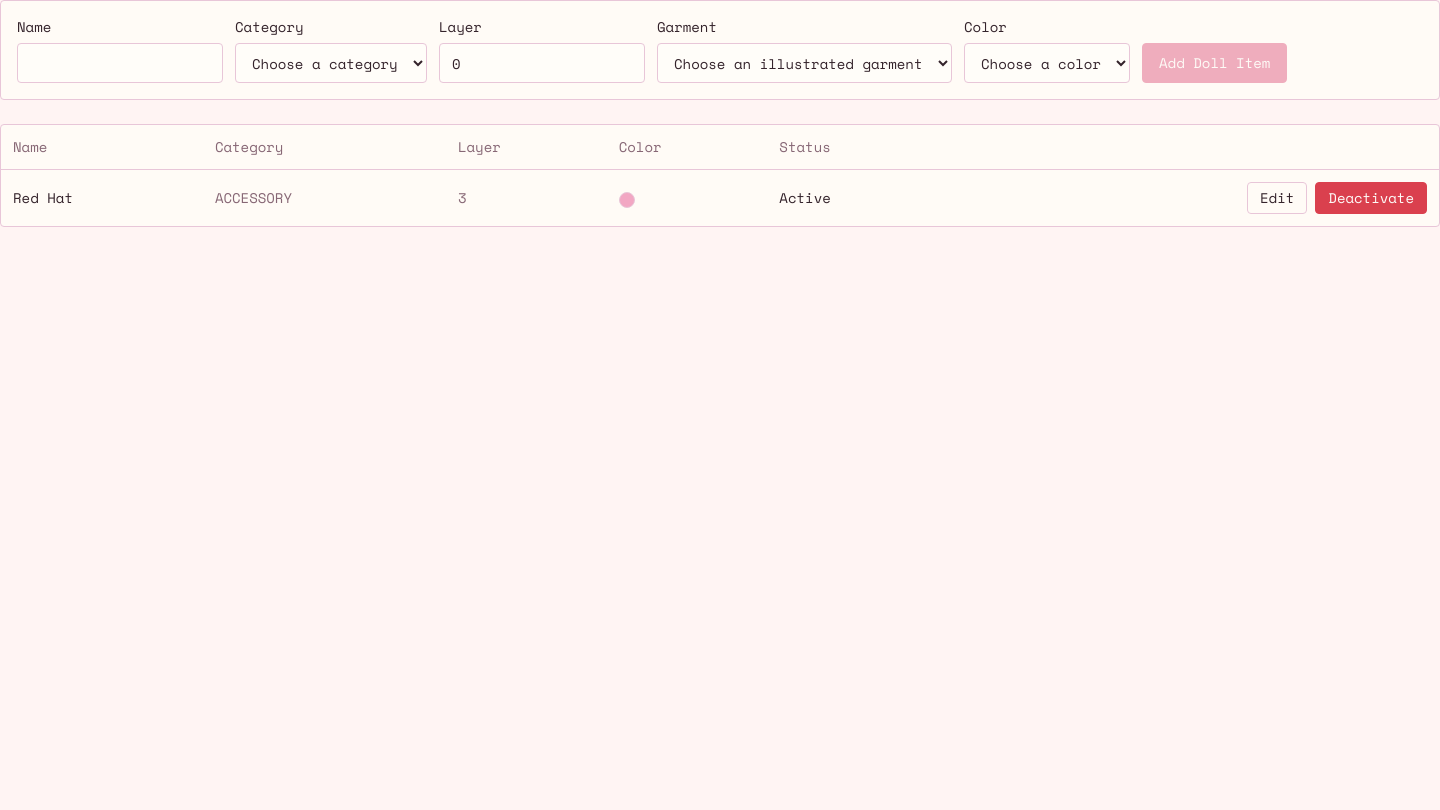
DollItemManager › deactivates a doll item
expect the text "Red Hat" is shown: met, box x1=1 y1=170 x2=203 y2=226
Click the button "Deactivate": [1371, 198] box x1=1315 y1=182 x2=1427 y2=214
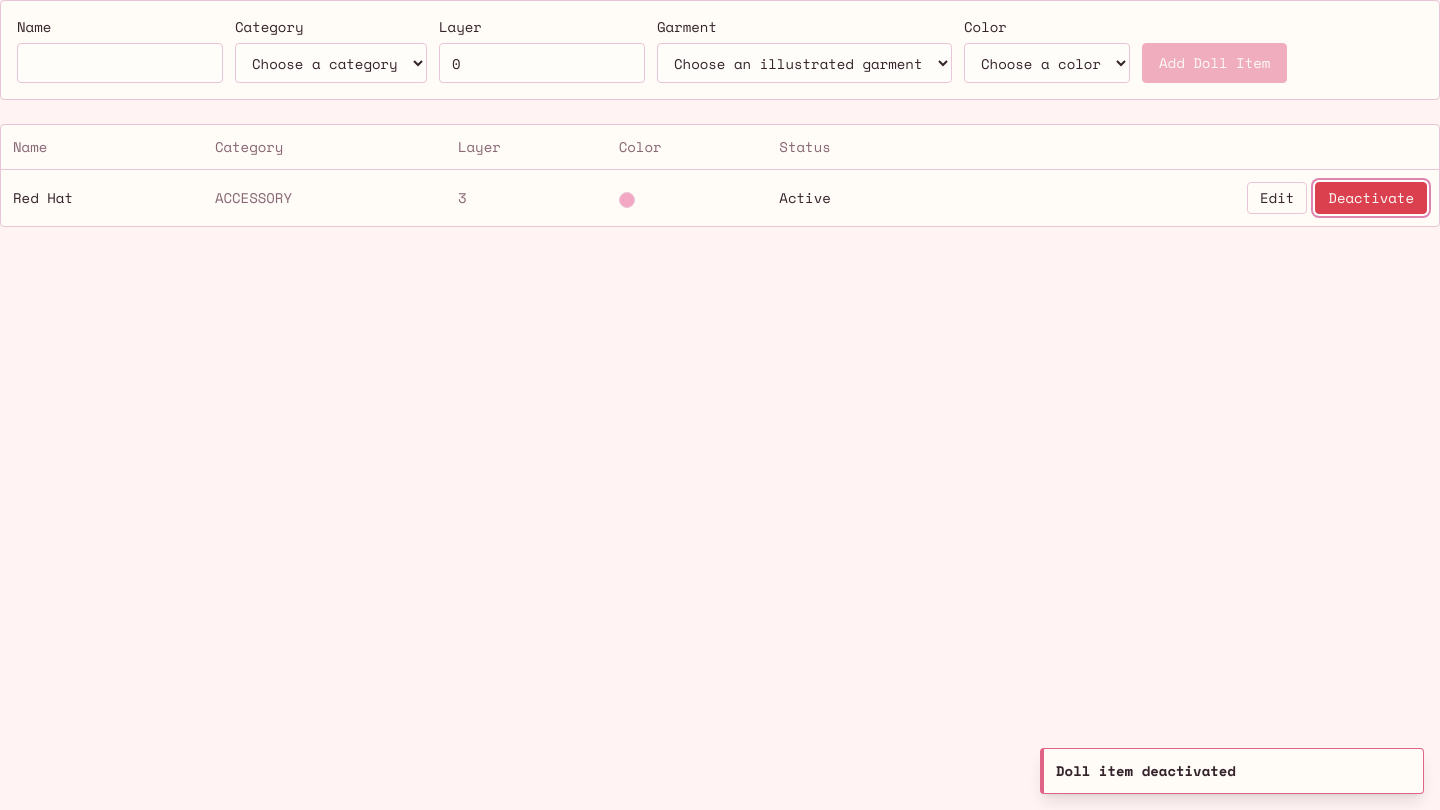
expect the text "Doll item deactivated" is shown: met, box x1=1056 y1=760 x2=1236 y2=781
